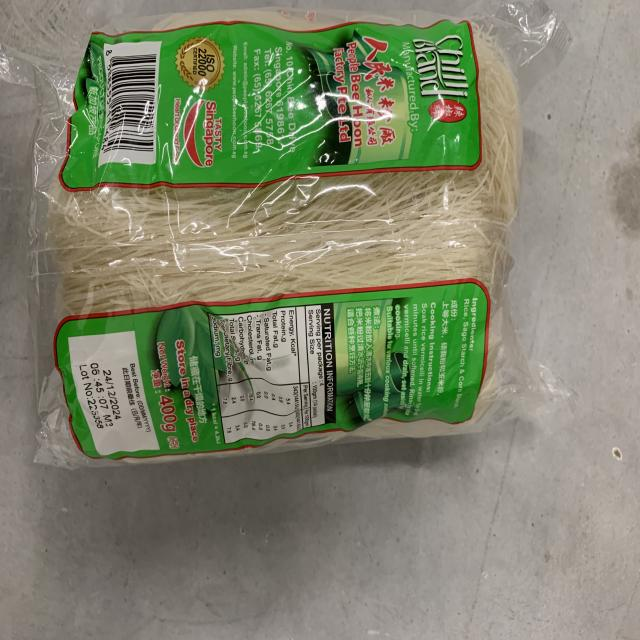object_name: (49, 27, 496, 443)
